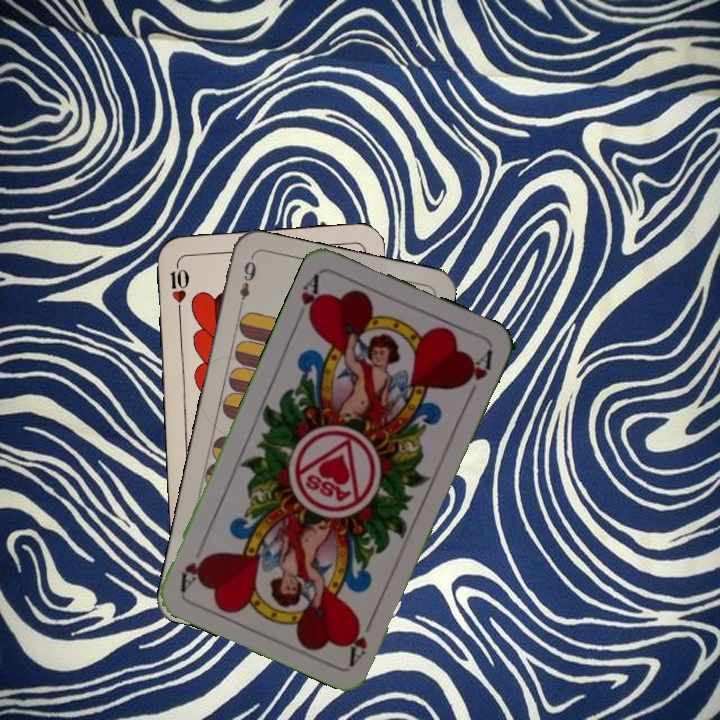E9: (235, 254, 259, 312)
H10: (166, 257, 192, 316)
HA: (344, 611, 377, 667), (296, 269, 325, 325)
